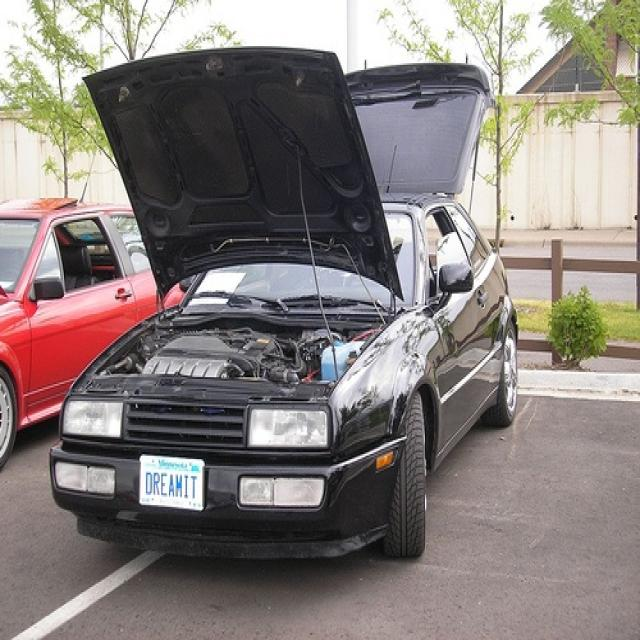car: (50, 46, 518, 565), (0, 193, 186, 471)
